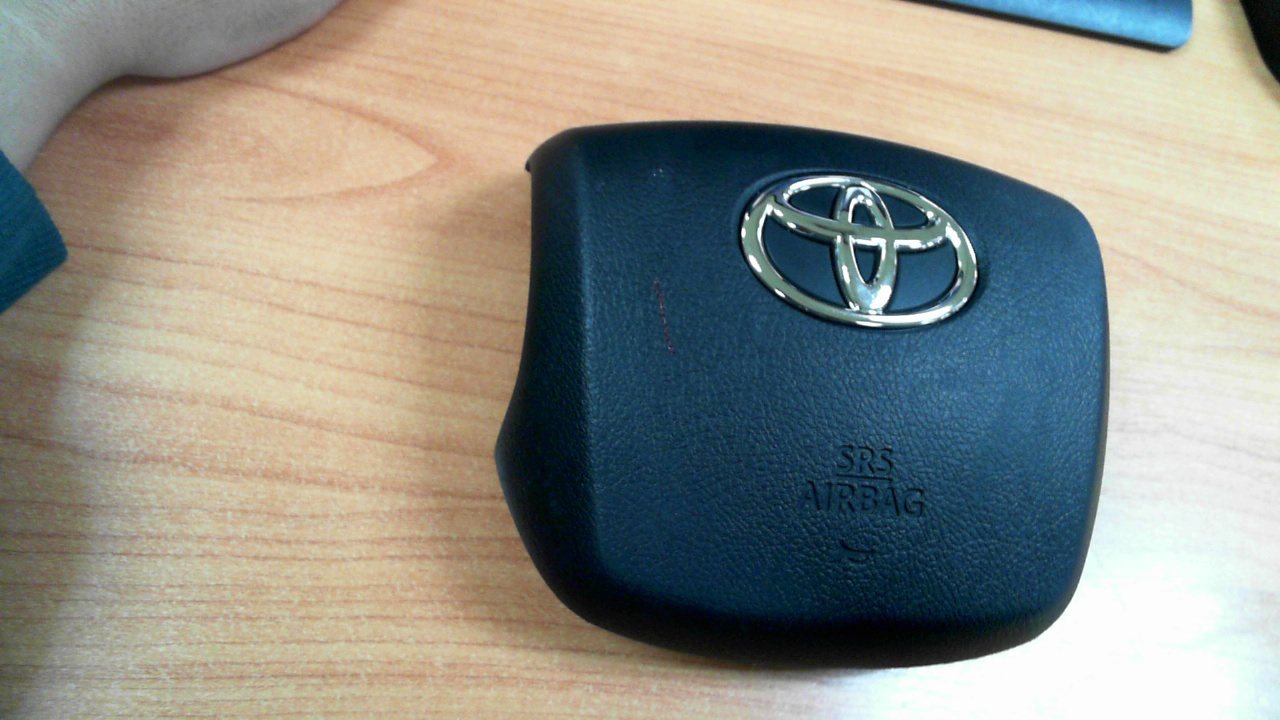Airbag: (493, 120, 1111, 669)
Toyota: (740, 174, 978, 328)
